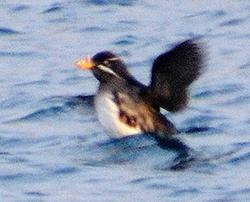008.Rhinoceros_Auklet: (73, 37, 208, 156)
